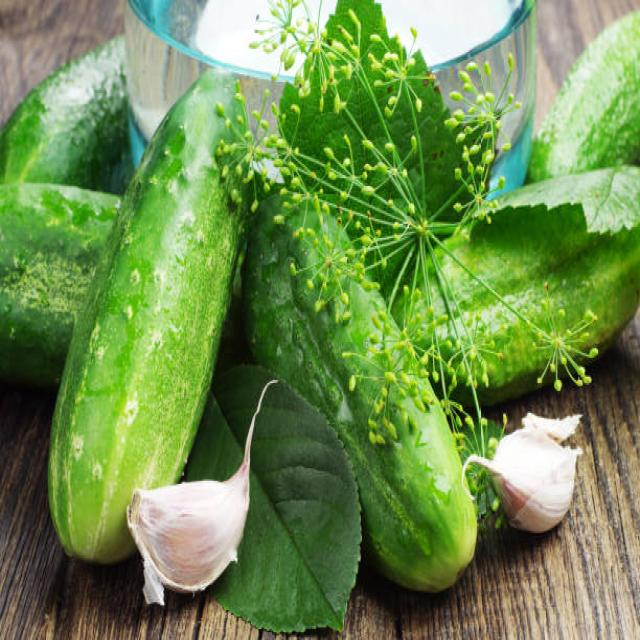cucumber: (48, 66, 248, 561), (240, 184, 478, 594), (392, 171, 639, 409)
